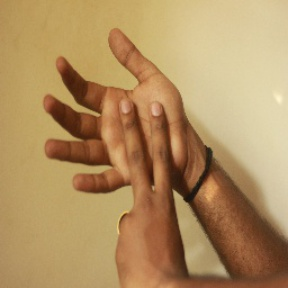N: (36, 20, 197, 239)
